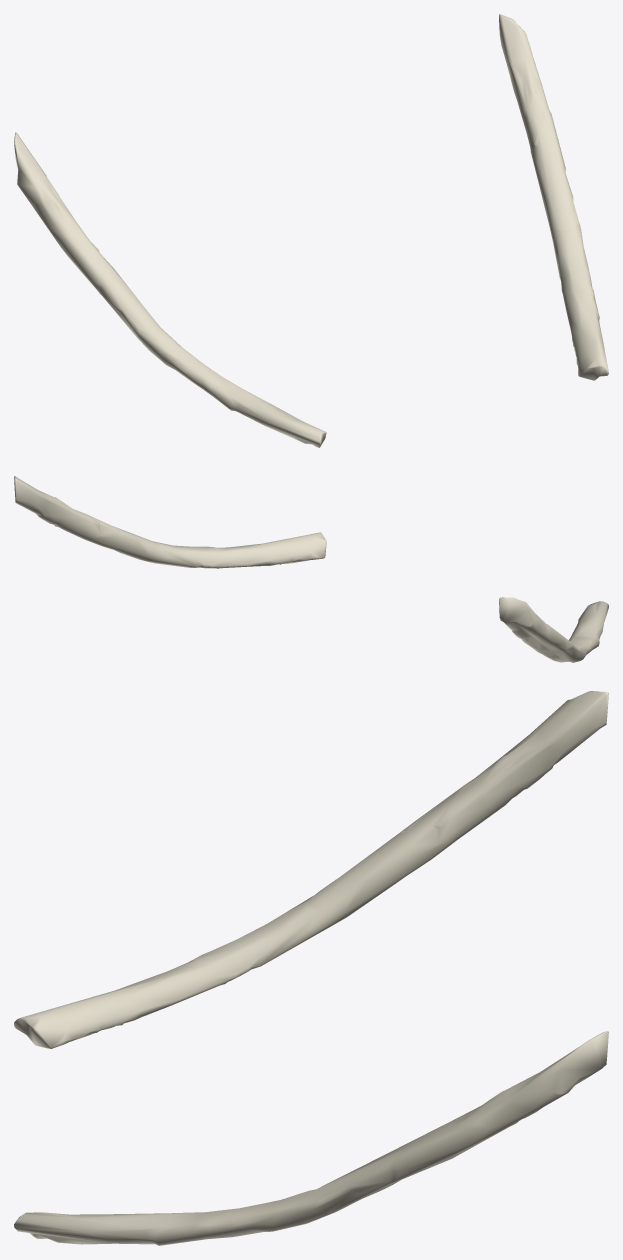
Rendered from tendons-pelvis-balanced.glb.
3 renders of one model, top to bottom at view 1: azimuth 30°, elevation 25°; view 2: azimuth 150°, elevation 25°; view 3: azimuth 270°, elevation 25°, orthographic. The views are drawn at different scales.
Parts seen in each view (by area): view 1: za.tendinous-arch-of-levator-ani-l, za.tendinous-arch-of-levator-ani-r; view 2: za.tendinous-arch-of-levator-ani-l, za.tendinous-arch-of-levator-ani-r; view 3: za.tendinous-arch-of-levator-ani-r, za.tendinous-arch-of-levator-ani-l.
Boxes of the visible parts, x1,y1,x2,y2 form: za.tendinous-arch-of-levator-ani-l: (499,14,608,380); za.tendinous-arch-of-levator-ani-r: (14,132,326,447); za.tendinous-arch-of-levator-ani-l: (14,476,326,568); za.tendinous-arch-of-levator-ani-r: (499,597,608,662); za.tendinous-arch-of-levator-ani-r: (14,691,608,1048); za.tendinous-arch-of-levator-ani-l: (14,1031,608,1245).
Bounding box in the file's own units: 0.0936 × 0.0341 × 0.0653.
